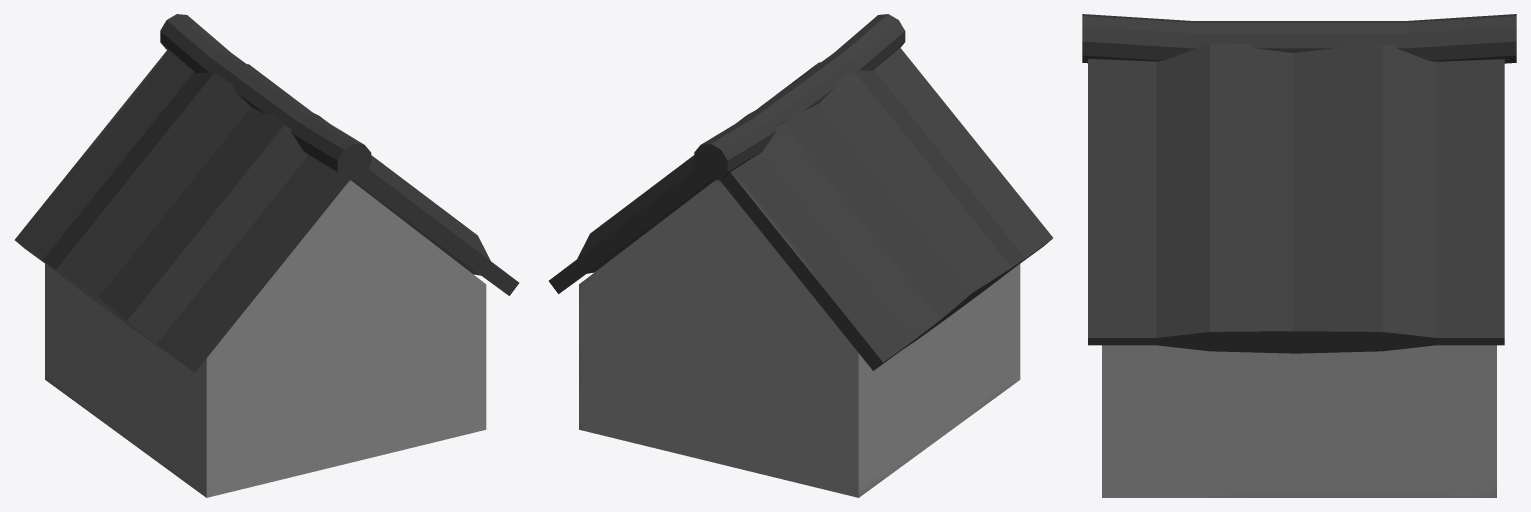
Rendered from simplified_roof.glb.
3 renders of one model, left to right at view 1: azimuth 30°, elevation 25°; view 2: azimuth 150°, elevation 25°; view 3: azimuth 270°, elevation 25°, orthographic. The views are drawn at different scales.
Parts seen in each view (by area): view 1: Cylinder; view 2: Cylinder; view 3: Cylinder.
Part boxes in pixels (x1,y1,x2,y2): Cylinder: (15,14,519,497); Cylinder: (549,14,1052,497); Cylinder: (1082,14,1516,497).
Bounding box in the file's own units: 2.51 × 2.23 × 2.2.
Materials: 1 (1 with a texture image).
